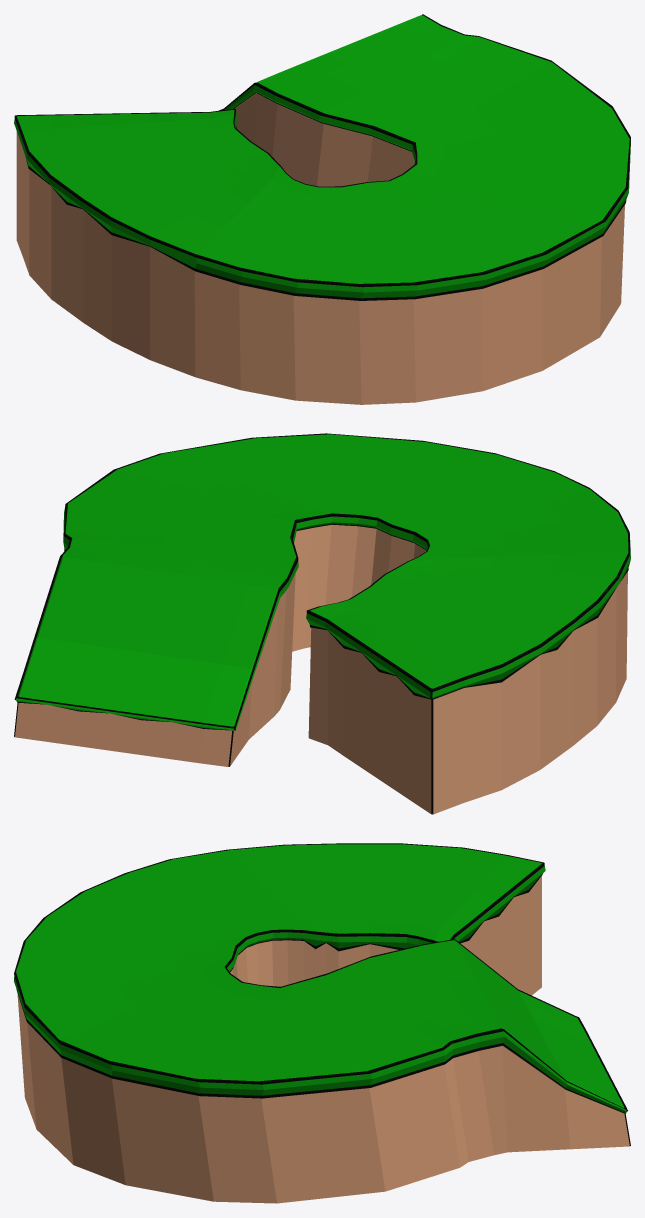
The model's file is CardboardPlatform08.fbx.
The picture shows the model from 3 angles, top to bottom: view 1: azimuth 30°, elevation 25°; view 2: azimuth 150°, elevation 25°; view 3: azimuth 270°, elevation 25°; orthographic projection.
Visible parts, largest first — view 1: Cube.062; view 2: Cube.062; view 3: Cube.062.
Boxes of the visible parts, x1,y1,x2,y2 form: Cube.062: (14, 14, 630, 404); Cube.062: (14, 433, 630, 814); Cube.062: (14, 843, 630, 1203).
Size of the model in its own units: 3337 by 1015 by 3625.
